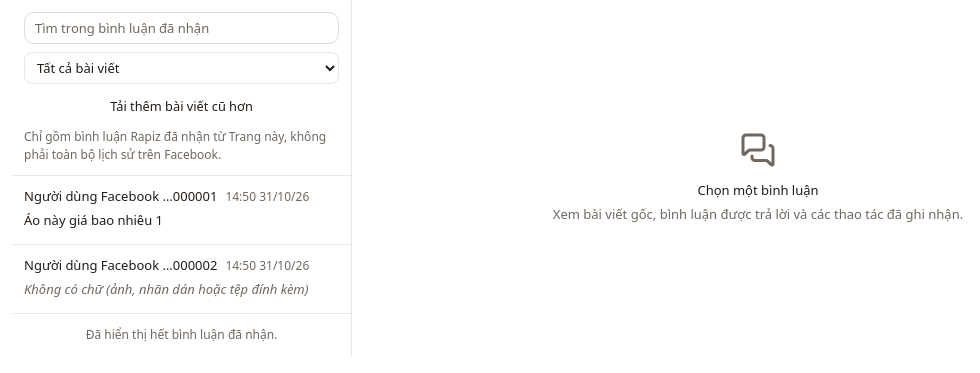
Scenario: Facebook comments in Inbox › loads older stored posts into the post filter on request
The image size is (980, 373).
What coordinates should you click on to do the following:
click the button "Tải thêm bài viết cũ hơn"
I would click on:
 (182, 106)
Its box is [24,92,339,120].
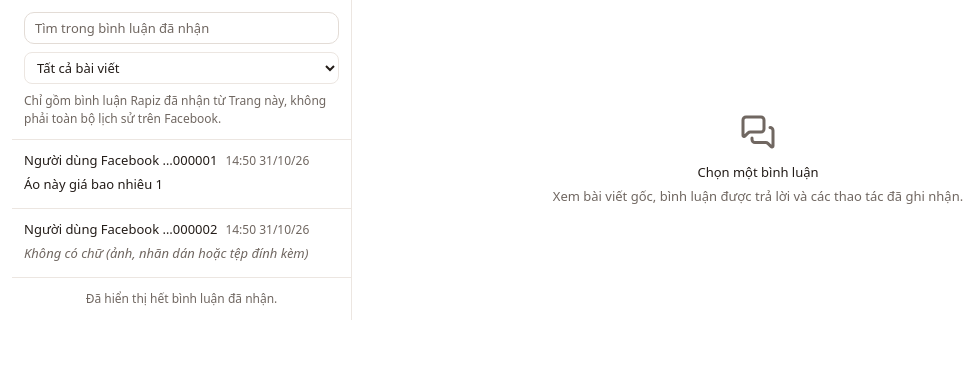
Now the button "Tải thêm bài viết cũ hơn" is gone
